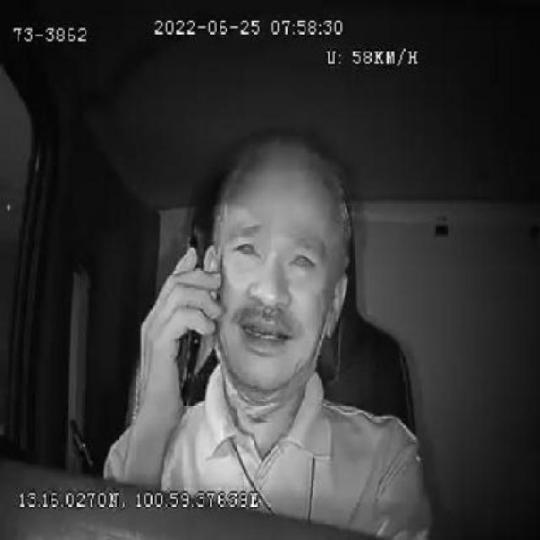phone: (174, 228, 204, 412)
